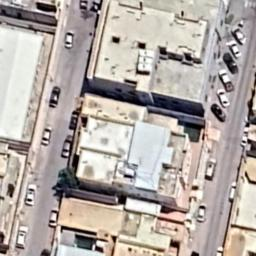SUV: (16, 226, 28, 250)
pickup: (217, 68, 235, 93), (216, 88, 231, 108)
sedan: (222, 52, 238, 74), (230, 26, 248, 45), (209, 104, 227, 122), (48, 86, 61, 108), (24, 184, 37, 206), (227, 40, 242, 58), (40, 126, 52, 146), (62, 134, 72, 158), (63, 31, 75, 49), (48, 208, 58, 228), (197, 202, 207, 222)
van: (204, 156, 218, 180)
